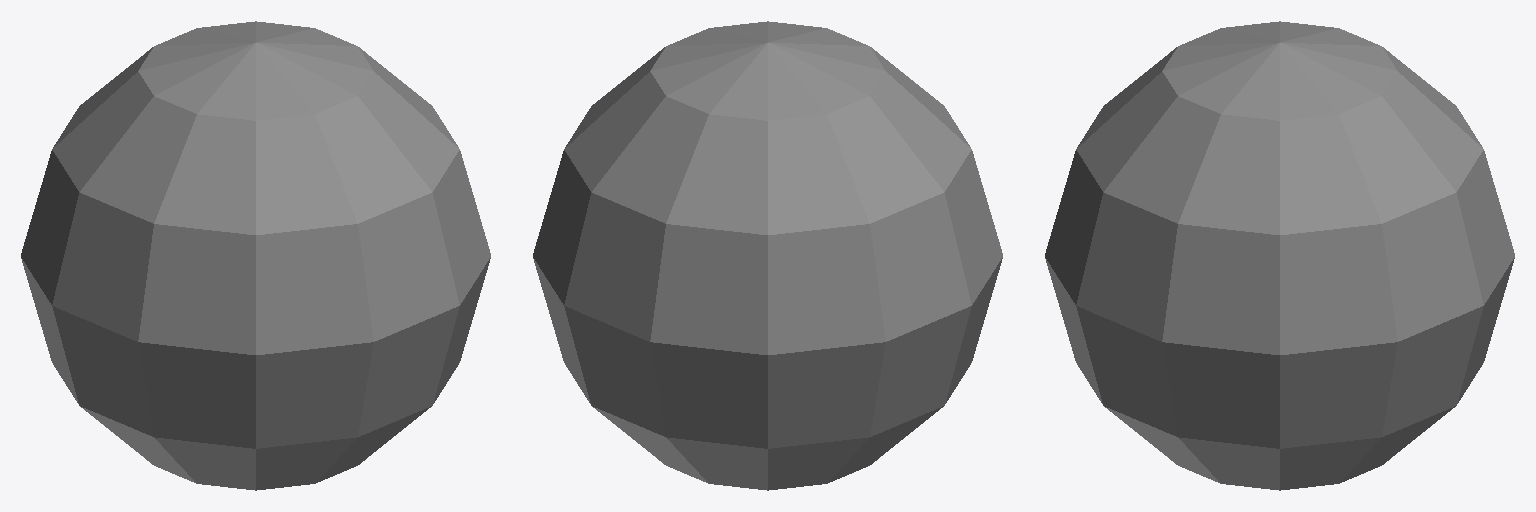
File: estambre.obj
3 views of the same model, side by side, from view 1: azimuth 30°, elevation 25°; view 2: azimuth 150°, elevation 25°; view 3: azimuth 270°, elevation 25° (orthographic).
Parts seen in each view (by area): view 1: estambre; view 2: estambre; view 3: estambre.
Part boxes in pixels (x1,y1,x2,y2): estambre: (21, 21, 490, 490); estambre: (533, 21, 1002, 490); estambre: (1045, 21, 1514, 490).
Size of the model in its own units: 25.3 by 25.3 by 25.3.